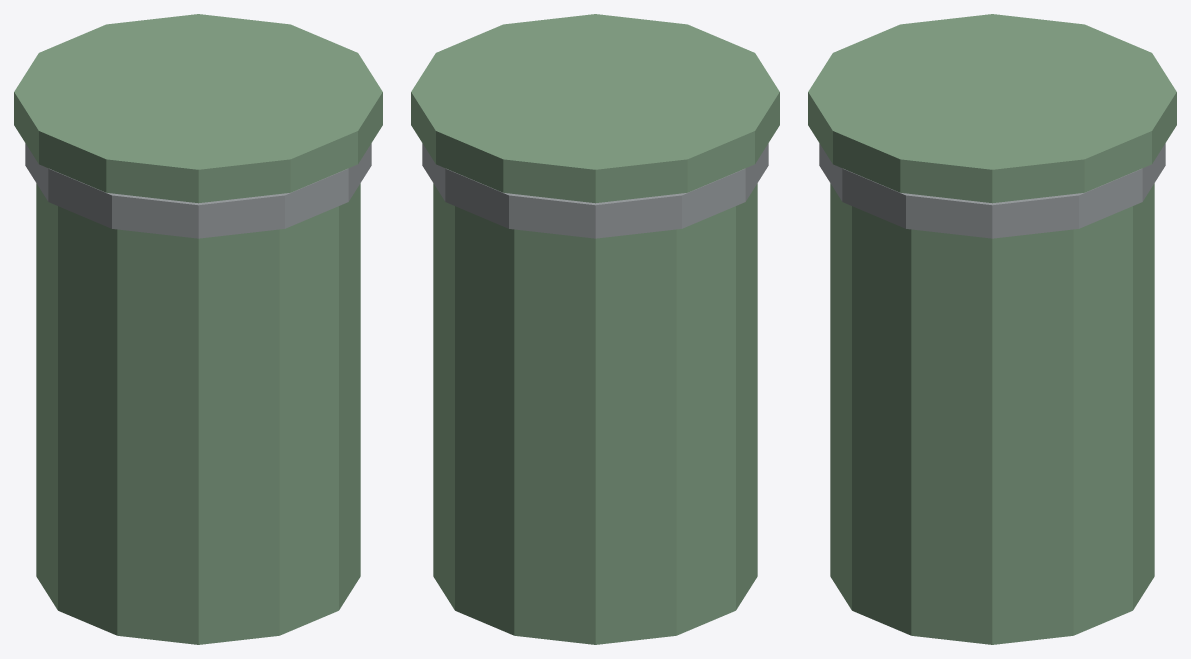
The model's file is trash_can_01.glb.
The picture shows the model from 3 angles, left to right: view 1: azimuth 30°, elevation 25°; view 2: azimuth 150°, elevation 25°; view 3: azimuth 270°, elevation 25°; orthographic projection.
Visible parts, largest first — view 1: can, lid, rim; view 2: can, lid, rim; view 3: can, lid, rim.
Part boxes in pixels (bbox=[...]): can: bbox=[36, 183, 360, 644]; lid: bbox=[14, 14, 382, 203]; rim: bbox=[25, 143, 371, 238]; can: bbox=[433, 183, 757, 644]; lid: bbox=[411, 14, 779, 203]; rim: bbox=[422, 143, 768, 238]; can: bbox=[830, 183, 1154, 644]; lid: bbox=[808, 14, 1176, 203]; rim: bbox=[819, 143, 1165, 238].
Bounding box in the file's own units: 0.5 × 0.725 × 0.5.
